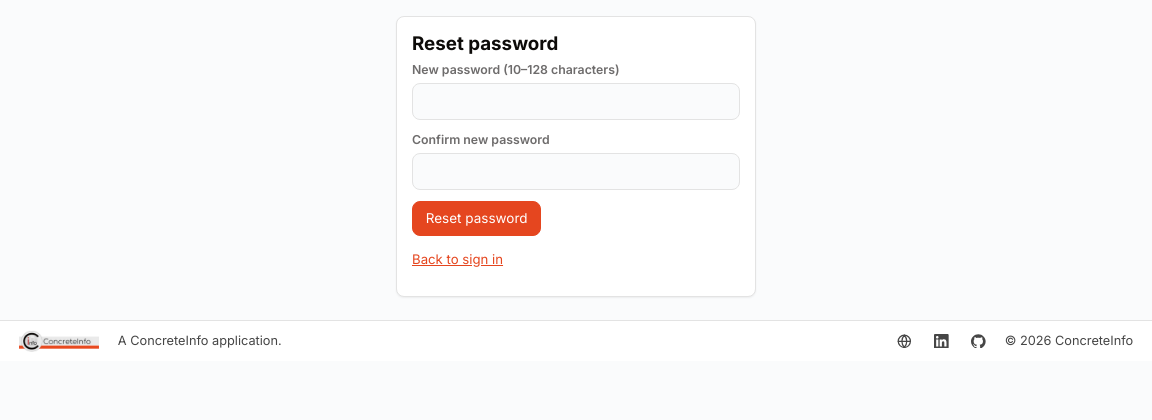
Test case: ResetPasswordPage › maps an API 400 INVALID_TOKEN to the invalid-link message
This screenshot has width=1152, height=420.
Type "longenoughpass" into the password field labelled "New password (10–128 characters)" at {"x": 576, "y": 102}, box [412,83,740,120]
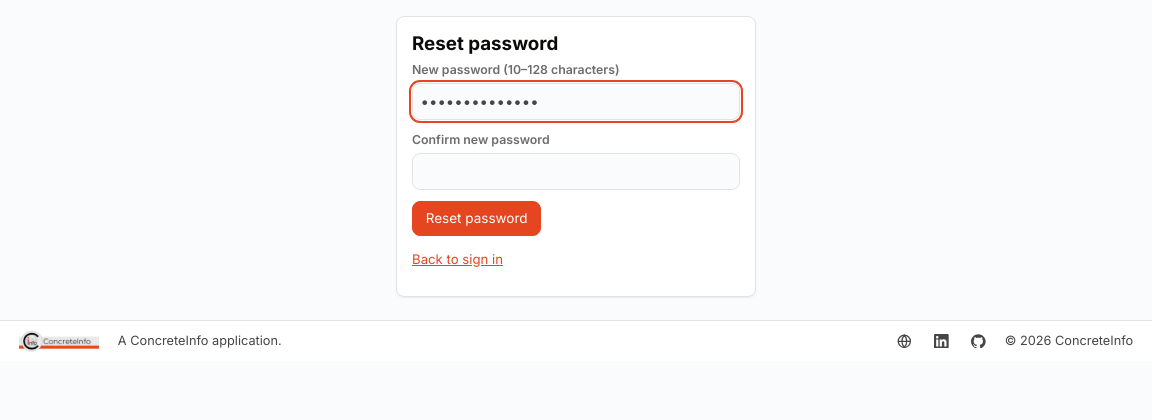
Type "longenoughpass" into the password field labelled "Confirm new password" at {"x": 576, "y": 172}, box [412,153,740,190]
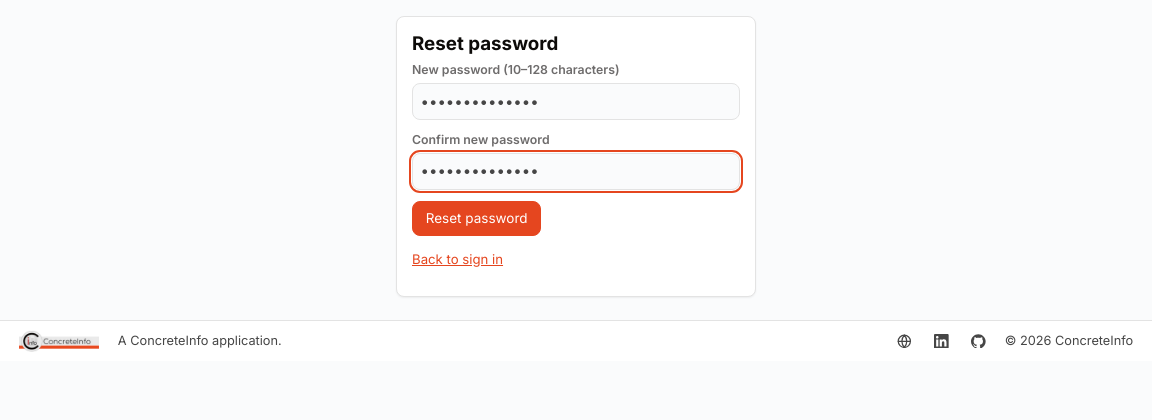
Click the button "Reset password" at {"x": 477, "y": 219}, box [412,201,541,236]
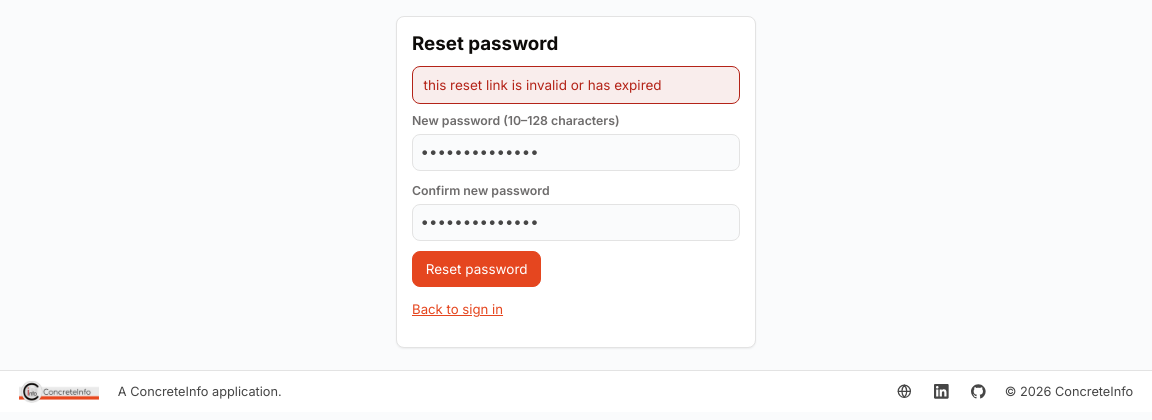
Check: the message shows "invalid or has expired", box [424,77,662,93]
